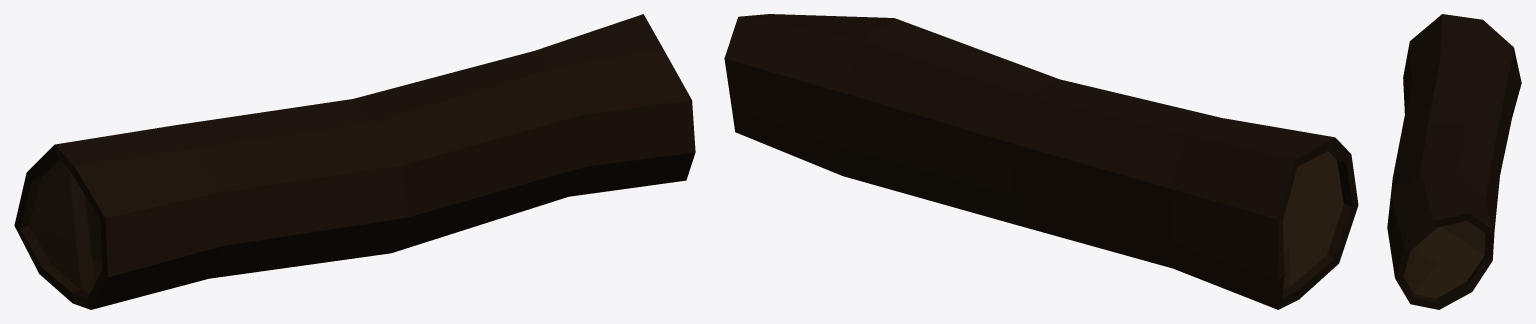
The model's file is Log01_FBX.fbx.
The picture shows the model from 3 angles, left to right: view 1: azimuth 30°, elevation 25°; view 2: azimuth 150°, elevation 25°; view 3: azimuth 270°, elevation 25°; orthographic projection. The views are drawn at different scales.
Visible parts, largest first — view 1: LOG 1; view 2: LOG 1; view 3: LOG 1.
Part boxes in pixels (x1=…): LOG 1: x1=14, y1=14, x2=695, y2=309; LOG 1: x1=724, y1=14, x2=1358, y2=309; LOG 1: x1=1387, y1=14, x2=1521, y2=309.
Size of the model in its own units: 99.59 by 25.46 by 28.66.
